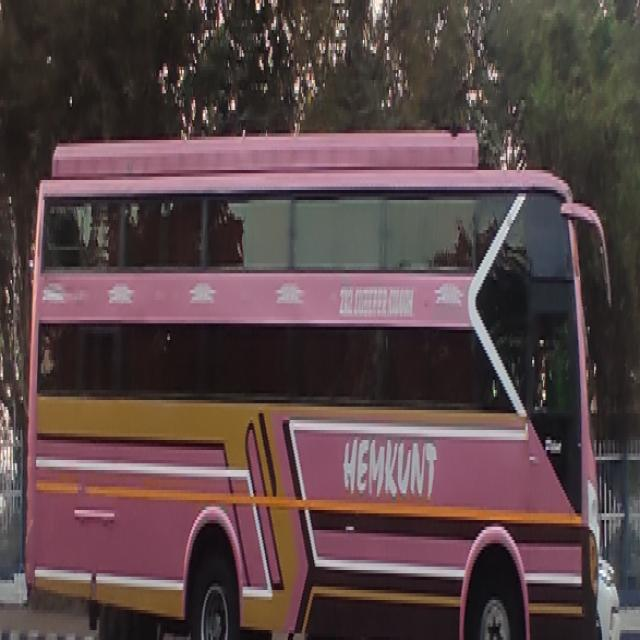bus: (22, 113, 606, 640)
